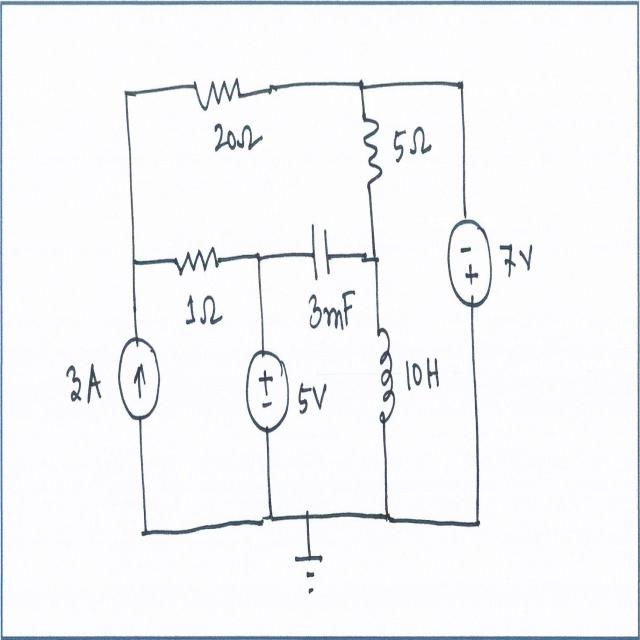capacitor: (308, 209, 334, 288)
current_source: (114, 328, 164, 426)
ground: (294, 550, 330, 601)
inductor: (373, 322, 400, 438)
resistor: (188, 72, 250, 112), (360, 103, 385, 199), (172, 243, 222, 279)
voltage_source: (242, 340, 294, 440), (446, 211, 494, 315)
